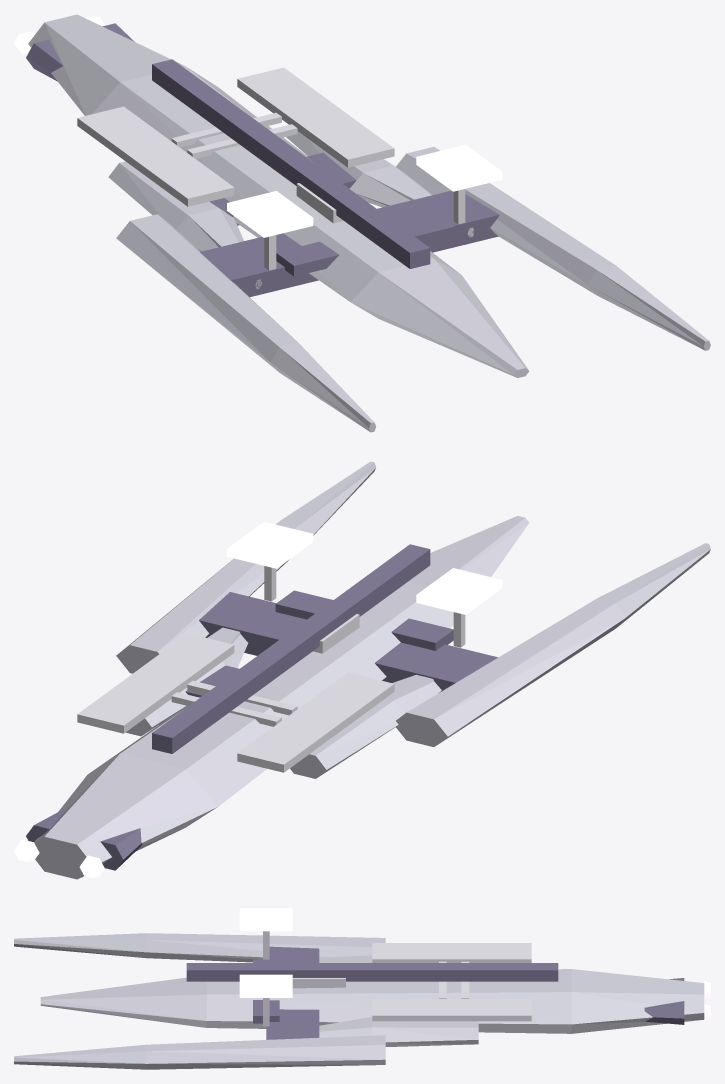
3 views of the same model, one above another, from view 1: azimuth 30°, elevation 25°; view 2: azimuth 150°, elevation 25°; view 3: azimuth 270°, elevation 25° (orthographic). The views are drawn at different scales.
Size of the model in its own units: 4.54 by 1.22 by 10.71.
